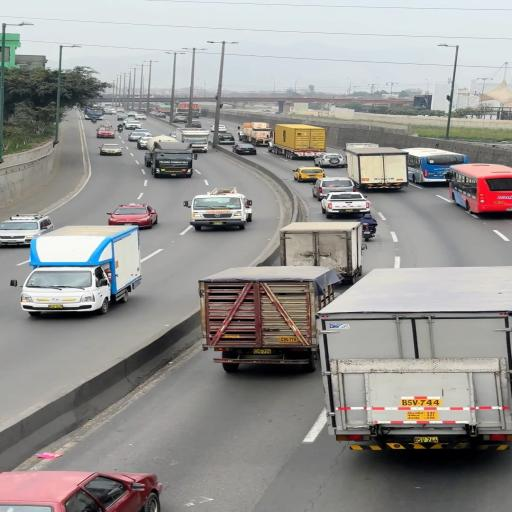auto: (1, 470, 164, 511), (182, 190, 250, 230), (0, 213, 54, 247), (106, 204, 159, 229), (319, 192, 370, 217), (312, 176, 355, 198), (292, 166, 324, 182), (98, 143, 122, 156), (137, 135, 159, 149), (127, 130, 150, 142), (232, 144, 257, 155), (217, 134, 236, 145), (124, 120, 142, 129), (173, 116, 188, 123), (117, 114, 128, 120)
bus: (315, 300, 508, 447), (198, 266, 340, 358), (19, 226, 141, 312), (276, 222, 367, 279), (343, 146, 407, 191), (270, 124, 326, 160), (142, 142, 196, 178), (173, 126, 211, 154), (241, 122, 272, 148), (344, 142, 378, 152), (96, 124, 117, 138), (84, 108, 104, 121), (176, 108, 199, 118)
moto: (444, 163, 509, 215), (399, 146, 467, 185), (450, 181, 468, 209)
